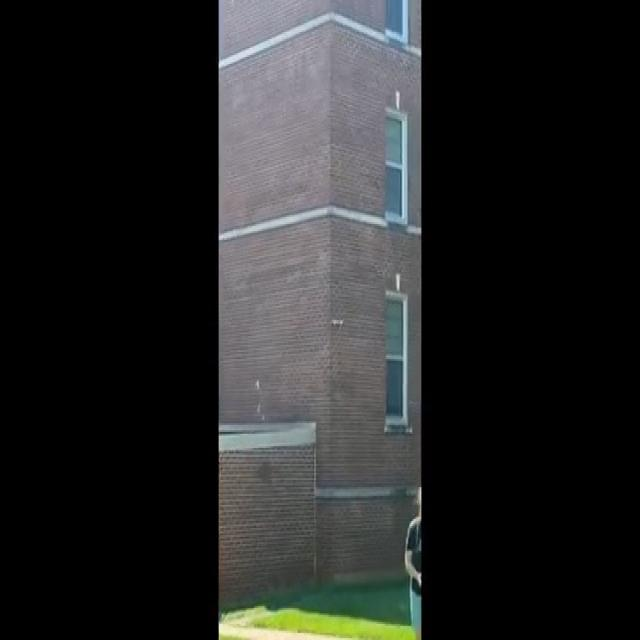drone: (328, 312, 348, 334)
